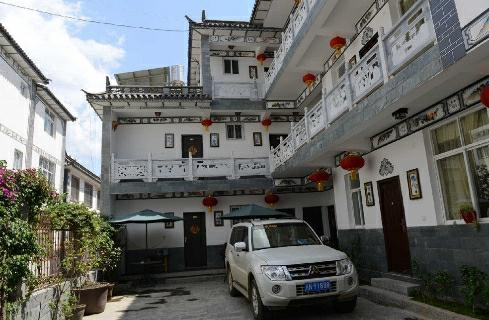三菱-帕杰罗: (220, 219, 364, 320)
